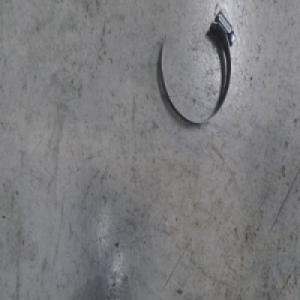AdjustableClamp: (158, 7, 237, 128)
